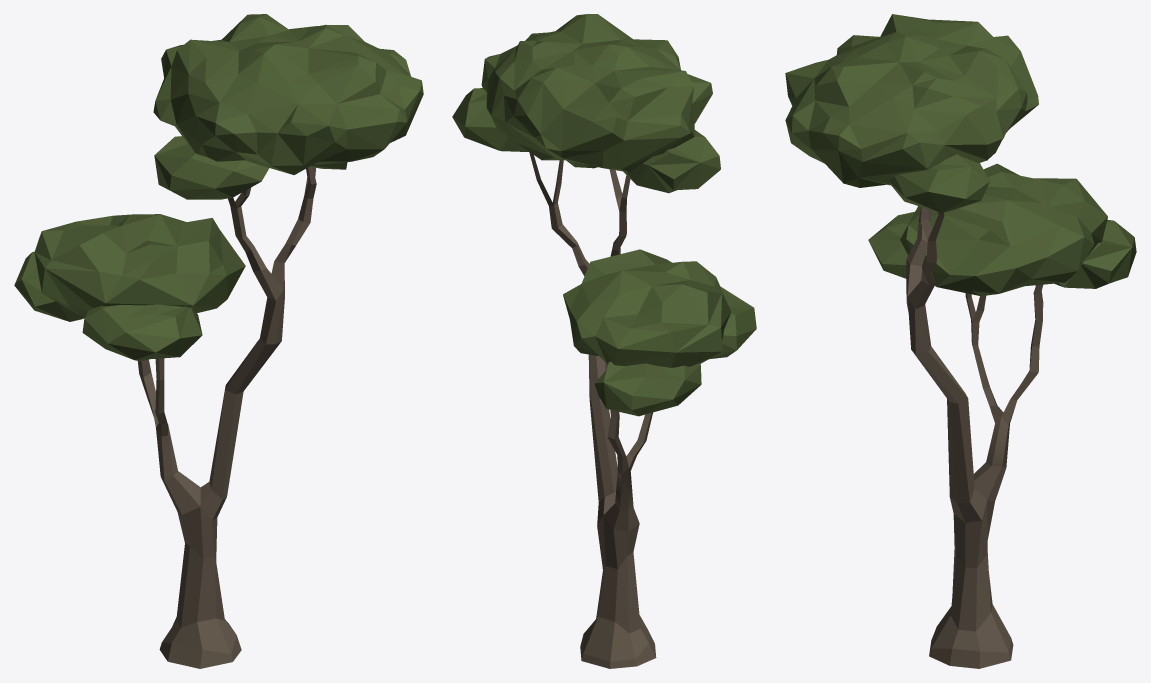
File: tree_2.fbx
3 renders of one model, left to right at view 1: azimuth 30°, elevation 25°; view 2: azimuth 150°, elevation 25°; view 3: azimuth 270°, elevation 25°, orthographic. The views are drawn at different scales.
Visible parts, largest first — view 1: tree_002; view 2: tree_002; view 3: tree_002.
Part boxes in pixels (<box>): tree_002: <box>14,14,423,668</box>; tree_002: <box>452,14,756,668</box>; tree_002: <box>785,14,1136,668</box>.
Size of the model in its own units: 0.8321 by 1.54 by 0.7712.
Materials: 1 (1 with a texture image).
